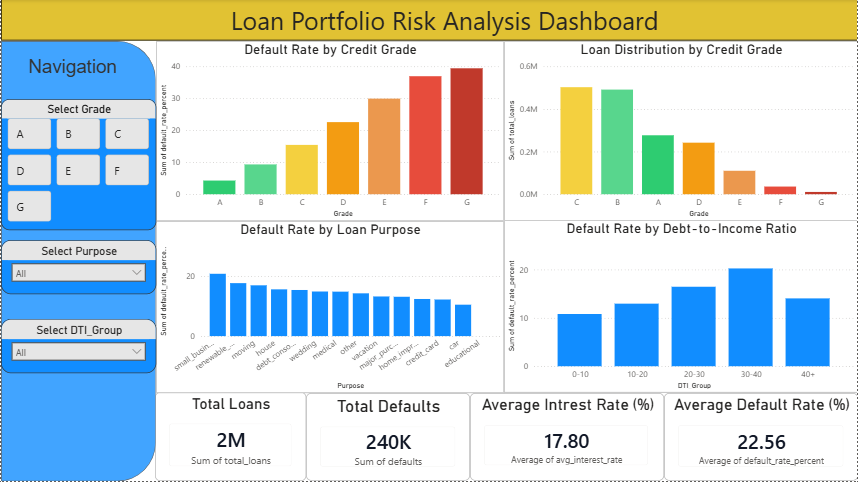

This screenshot's page, from the dashboard's own definition file:
{"tool":"powerbi","page":{"name":"Risk-analysis-Dashboard","canvas":[1280,720],"ordinal":0},"visuals":[{"type":"clusteredColumnChart","title":"Default Rate by Credit Grade","fields":{"Category":["public grade_risk_view.grade"],"Y":["Sum(public grade_risk_view.default_rate_percent)"]},"box":[231.5,62.7,519.8,268.9],"z":0},{"type":"shape","box":[20.3,315.4,67.6,58.6],"z":0,"group":"g1"},{"type":"clusteredColumnChart","title":"Loan Distribution by Credit Grade","fields":{"Category":["public grade_risk_view.grade"],"Y":["Sum(public grade_risk_view.total_loans)"]},"box":[751.4,62.7,528.8,268.9],"z":500},{"type":"shape","box":[0,62.7,231.3,657.9],"z":1000,"group":"g1"},{"type":"shape","box":[0,82.5,213.6,40.3],"z":2000,"group":"g1"},{"type":"textbox","box":[0,0,1325.4,62.5],"z":6000},{"type":"cardVisual","title":"Total Loans","fields":{"Data":["Sum(public grade_risk_view.total_loans)"]},"box":[230,587.1,225.6,132.9],"z":6250},{"type":"cardVisual","title":"Total Defaults","fields":{"Data":["Sum(public grade_risk_view.defaults)"]},"box":[455.6,588.5,245,131.5],"z":6375},{"type":"cardVisual","title":"Average Default Rate (%)","fields":{"Data":["Avg(public grade_risk_view.default_rate_percent)"]},"box":[990.4,588.5,289.8,131.5],"z":6437},{"type":"cardVisual","title":"Average Intrest Rate (%)","fields":{"Data":["Avg(public grade_risk_view.avg_interest_rate)"]},"box":[700.6,588.5,289.8,131.5],"z":6468},{"type":"clusteredColumnChart","title":"Default Rate by Loan Purpose","fields":{"Category":["public purpose_risk_view.purpose"],"Y":["Sum(public purpose_risk_view.default_rate_percent)"]},"box":[231.5,331.6,519.8,256.9],"z":6500},{"type":"clusteredColumnChart","title":"Default Rate by Debt-to-Income Ratio","fields":{"Y":["Sum(public dti_risk_view.default_rate_percent)"],"Category":["public dti_risk_view.dti_group"]},"box":[751.4,330.1,528.8,258.4],"z":6750},{"type":"group","id":"g1","title":"Nav Closed","box":[0,62.7,231.5,657.3],"z":7000},{"type":"advancedSlicerVisual","title":"Select Grade","fields":{"Values":["public grade_risk_view.grade"]},"box":[0,149.4,231.5,195.7],"z":10000},{"type":"slicer","title":"Select Purpose","fields":{"Values":["public purpose_risk_view.purpose"]},"box":[0,360.4,231.5,80.7],"z":10001,"group":"g1"},{"type":"slicer","title":"Select DTI_Group","fields":{"Values":["public dti_risk_view.dti_group"]},"box":[0,478,231.5,80.7],"z":11000}]}

Visuals, with their boxes in screenshot pixels (x1, y1, x2, y2), scaled from the page's 1280x720 canvas onto the 858x482 screenshot:
"Default Rate by Credit Grade" clusteredColumnChart: region(155, 42, 504, 222)
shape: region(14, 211, 59, 250)
"Loan Distribution by Credit Grade" clusteredColumnChart: region(504, 42, 857, 222)
shape: region(0, 42, 155, 481)
shape: region(0, 55, 143, 82)
textbox: region(0, 0, 857, 42)
"Total Loans" cardVisual: region(154, 393, 305, 481)
"Total Defaults" cardVisual: region(305, 394, 470, 481)
"Average Default Rate (%)" cardVisual: region(664, 394, 857, 481)
"Average Intrest Rate (%)" cardVisual: region(470, 394, 664, 481)
"Default Rate by Loan Purpose" clusteredColumnChart: region(155, 222, 504, 394)
"Default Rate by Debt-to-Income Ratio" clusteredColumnChart: region(504, 221, 857, 394)
"Nav Closed" group: region(0, 42, 155, 481)
"Select Grade" advancedSlicerVisual: region(0, 100, 155, 231)
"Select Purpose" slicer: region(0, 241, 155, 295)
"Select DTI_Group" slicer: region(0, 320, 155, 374)
